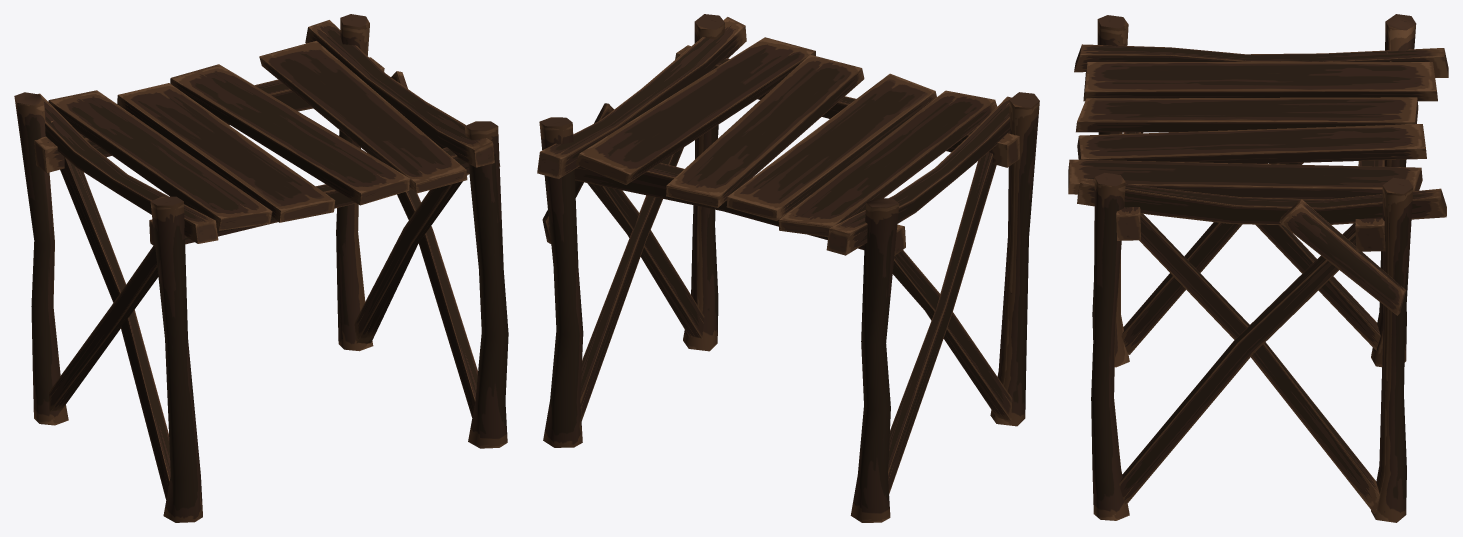
Rendered from SM_PROP_woodbridge_dungeon_01.fbx.
3 renders of one model, left to right at view 1: azimuth 30°, elevation 25°; view 2: azimuth 150°, elevation 25°; view 3: azimuth 270°, elevation 25°, orthographic. The views are drawn at different scales.
Visible parts, largest first — view 1: SM_PROP_woodbridge_dungeon_01; view 2: SM_PROP_woodbridge_dungeon_01; view 3: SM_PROP_woodbridge_dungeon_01.
Part boxes in pixels (box(x1,y1,x2,y2)): SM_PROP_woodbridge_dungeon_01: box(14, 14, 508, 522); SM_PROP_woodbridge_dungeon_01: box(537, 14, 1039, 522); SM_PROP_woodbridge_dungeon_01: box(1068, 14, 1448, 522).
Size of what is drawn, in the model's own units: 406 by 353 by 367.
